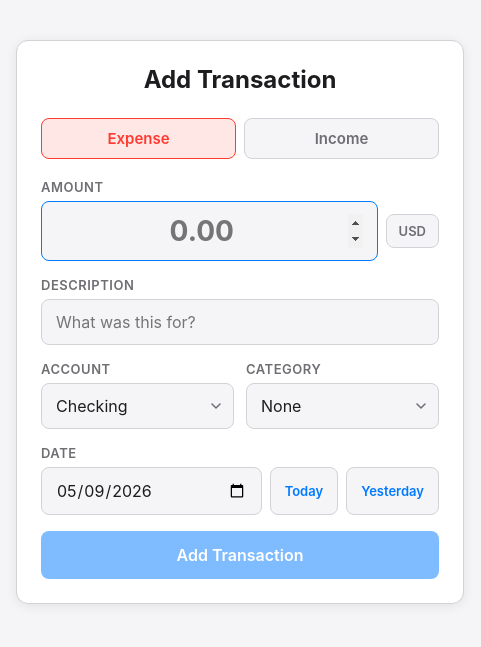
it: AddTransactionScreen › shows validation error for zero amount
In the number field with placeholder "0.00": (209, 231) top-left (41, 201), bottom-right (378, 261), type "0"
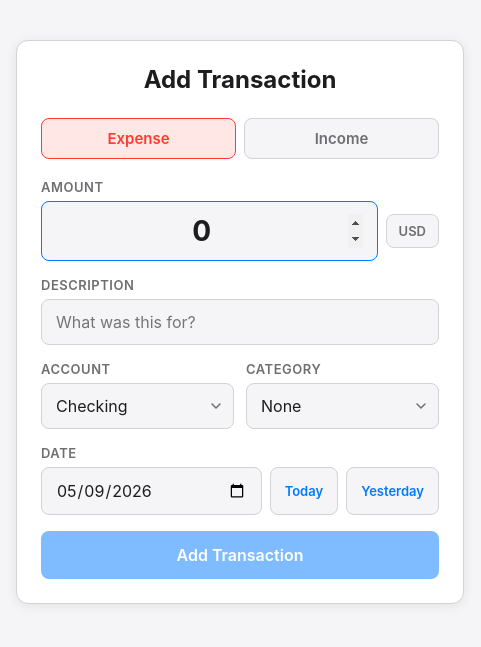
In the field with placeholder "What was this for?": (240, 322) top-left (41, 299), bottom-right (439, 345), type "x"
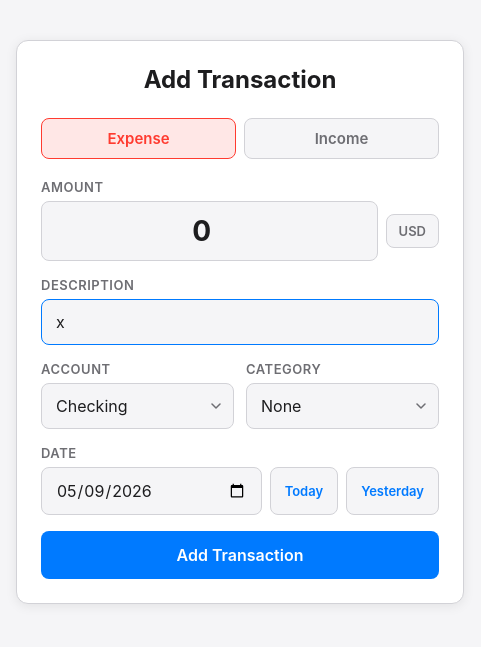
Submit the form
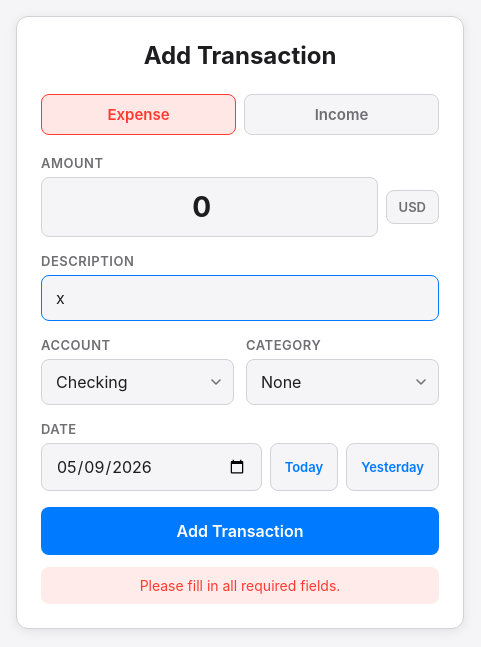
Expected: the text "Please fill in all required fields." is shown, top-left (41, 566), bottom-right (439, 604)
